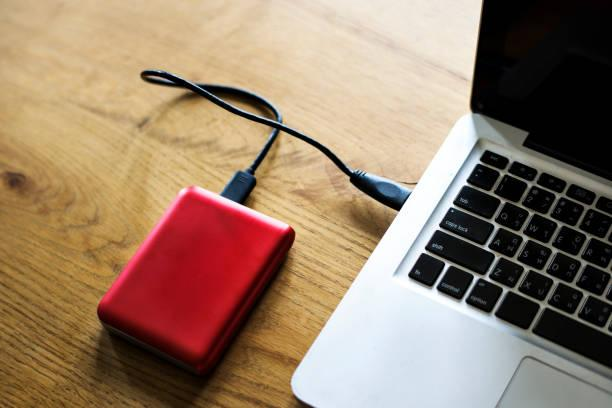HDD: (96, 187, 296, 379)
